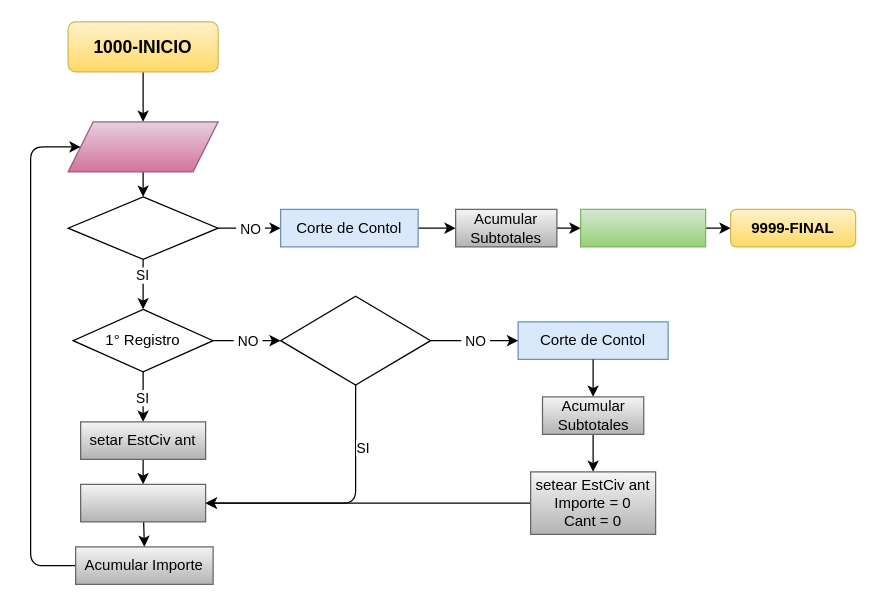
The diagram is 878 pixels wide and 606 high, and some of its shapes have lost their labels. The box of each missing label's shape, as (x1, y1, x2, y2) in pixels:
add 1 a CANT: (79, 483, 206, 522)
EstCiv act = EstCiv ant: (279, 295, 431, 385)
Existe: (67, 196, 218, 259)
Leer Registro: (67, 121, 218, 172)
Mostrar Totales: (579, 208, 706, 247)
